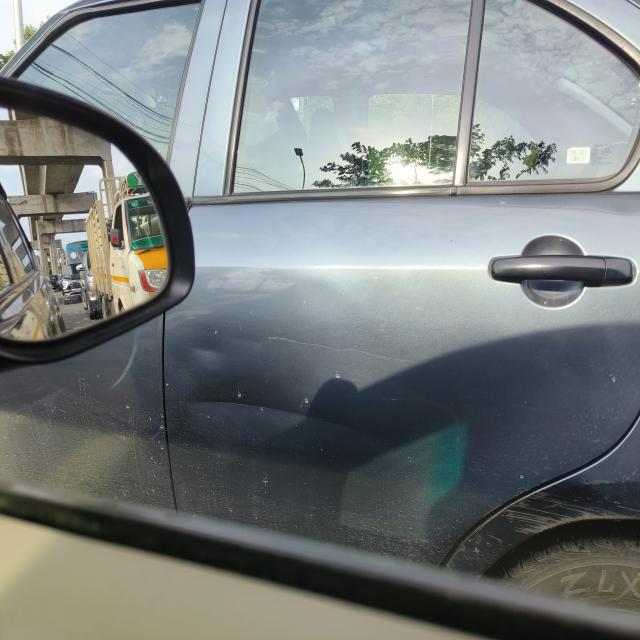scratch: (174, 392, 386, 453), (262, 326, 429, 370), (481, 390, 585, 424), (187, 336, 230, 363), (228, 332, 260, 354)
